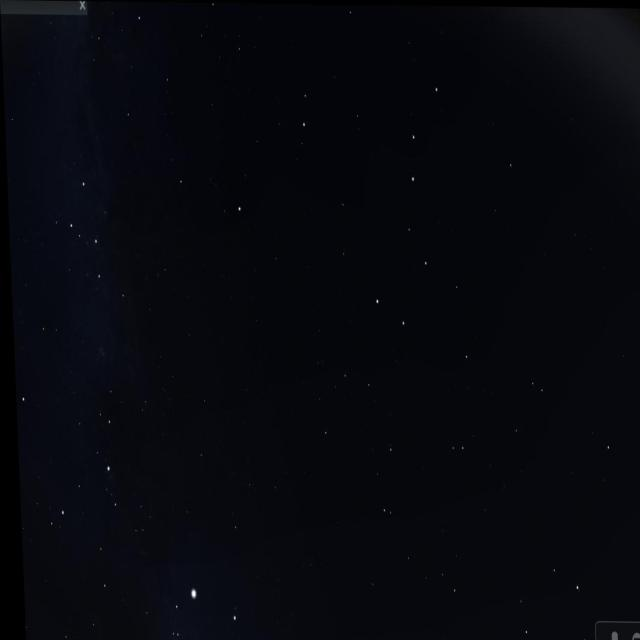cassiopeia: (62, 154, 138, 304)
ursa_major: (358, 61, 463, 355)
